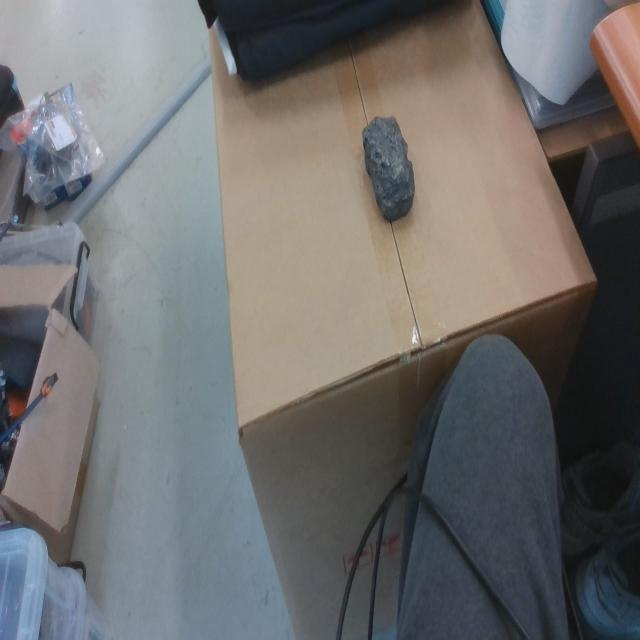stone: (362, 115, 415, 223)
